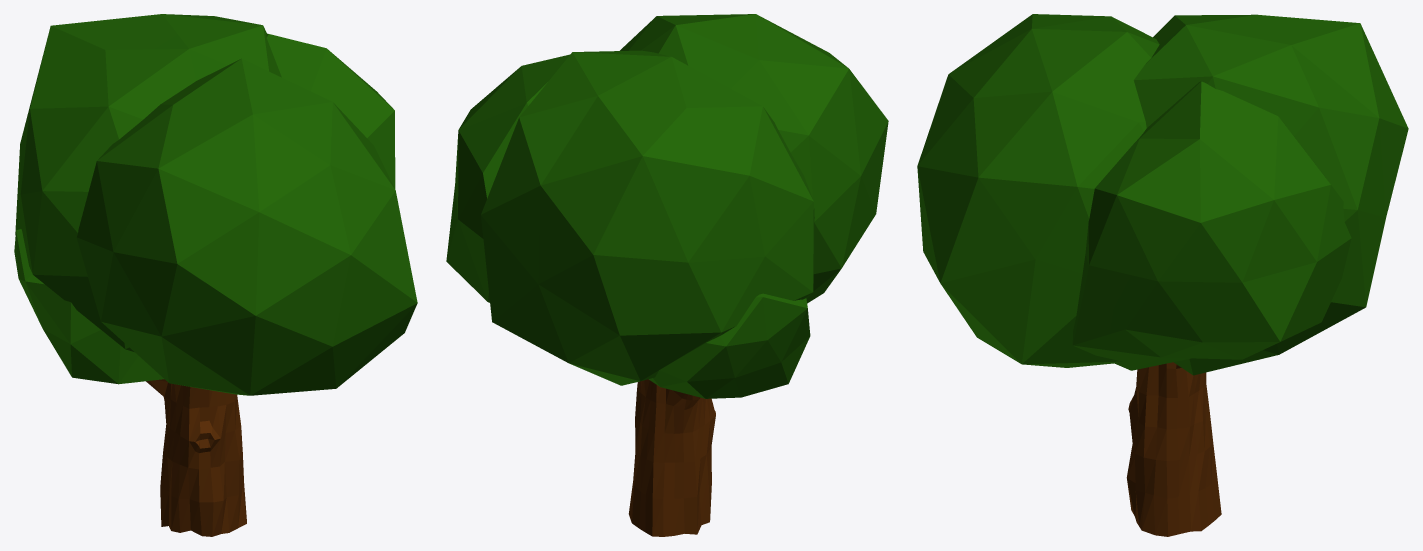
Rendered from TreeLeaf.fbx.
3 renders of one model, left to right at view 1: azimuth 30°, elevation 25°; view 2: azimuth 150°, elevation 25°; view 3: azimuth 270°, elevation 25°, orthographic. The views are drawn at different scales.
Visible parts, largest first — view 1: Icosphere, Cylinder; view 2: Icosphere, Cylinder; view 3: Icosphere, Cylinder.
Part boxes in pixels (x1,y1,x2,y2): Icosphere: [14, 14, 417, 395]; Cylinder: [146, 379, 246, 536]; Icosphere: [446, 14, 888, 398]; Cylinder: [628, 379, 715, 536]; Icosphere: [917, 14, 1408, 375]; Cylinder: [1126, 362, 1221, 536].
Size of the model in its own units: 431 by 570 by 511.
